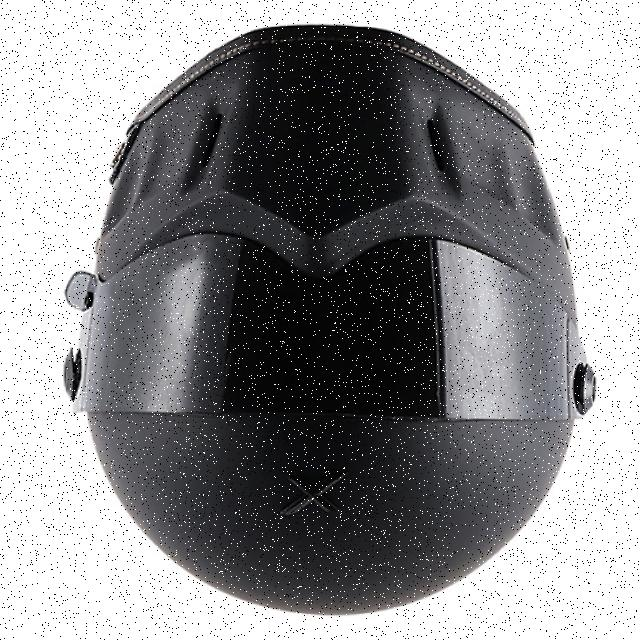Helmet: (59, 29, 619, 619)
